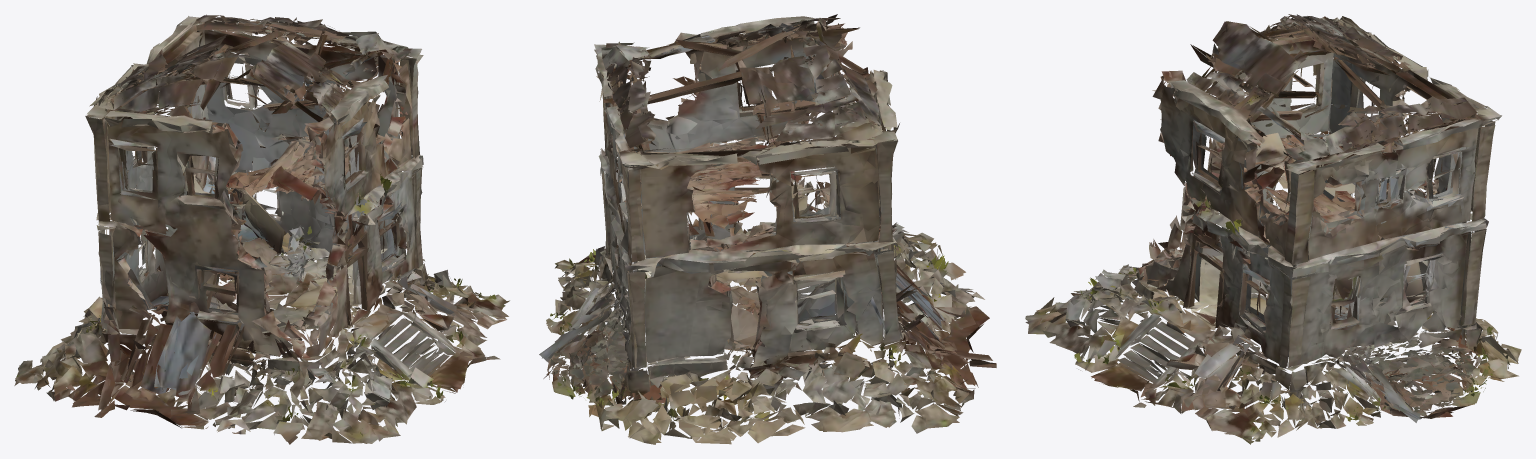
Rendered from Building1_collider.fbx.
3 views of the same model, side by side, from view 1: azimuth 30°, elevation 25°; view 2: azimuth 150°, elevation 25°; view 3: azimuth 270°, elevation 25° (orthographic). The views are drawn at different scales.
Parts seen in each view (by area): view 1: Mesh_0.001; view 2: Mesh_0.001; view 3: Mesh_0.001.
Boxes of the visible parts, x1,y1,x2,y2 form: Mesh_0.001: (14, 14, 509, 444); Mesh_0.001: (539, 14, 996, 444); Mesh_0.001: (1025, 14, 1521, 444).
Size of the model in its own units: 0.8982 by 0.6219 by 0.8785.
Materials: 1 (1 with a texture image).
